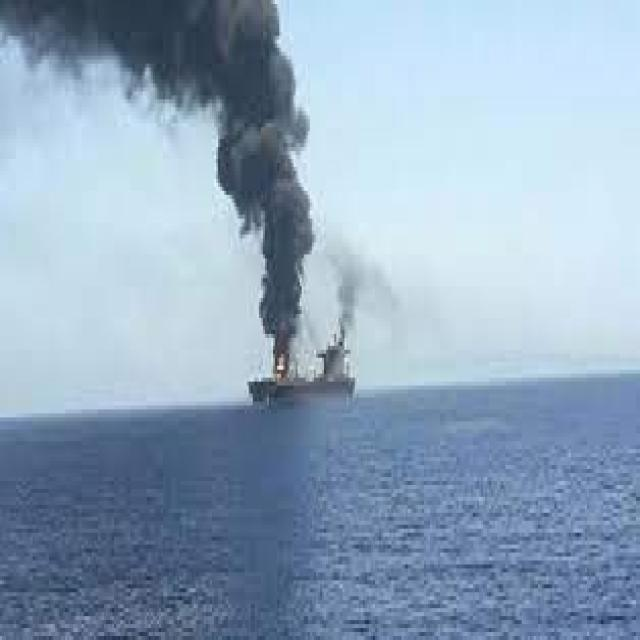cargoship: (231, 295, 362, 411)
